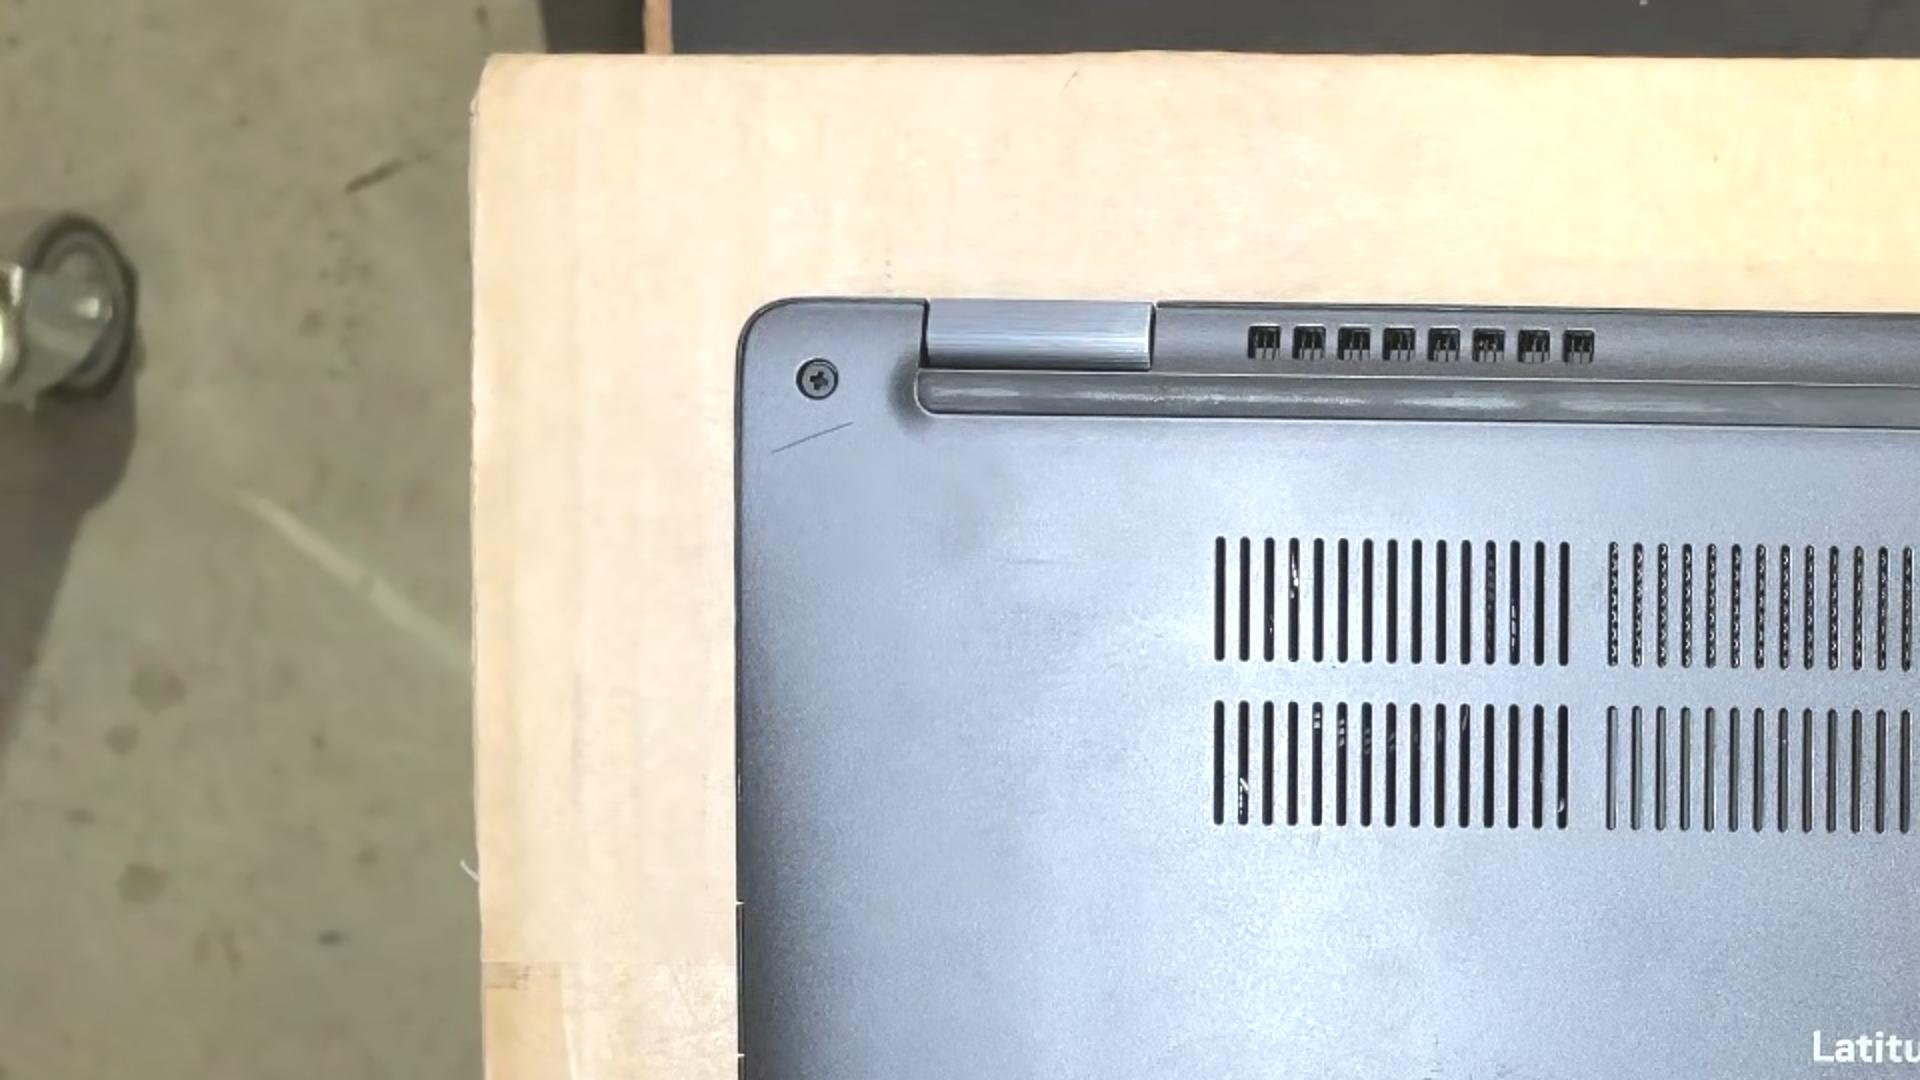scratches: (769, 418, 856, 458), (1010, 558, 1059, 566), (1427, 1068, 1443, 1073), (1420, 1076, 1435, 1080), (1469, 1071, 1473, 1080)
